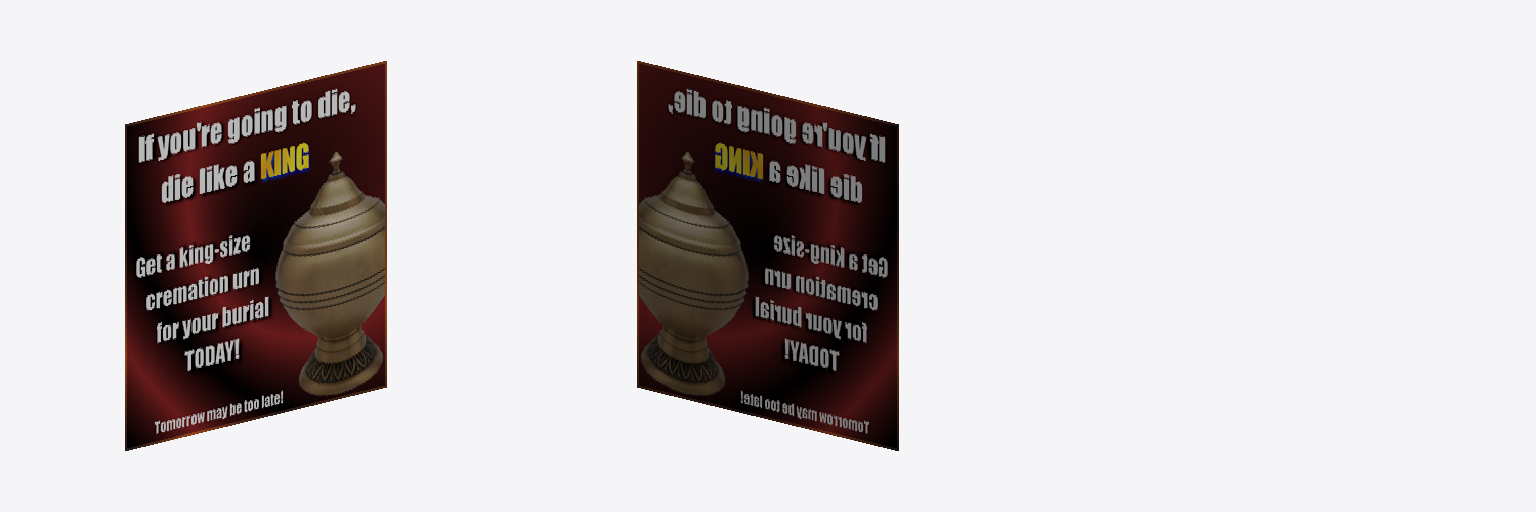
3 views of the same model, side by side, from view 1: azimuth 30°, elevation 25°; view 2: azimuth 150°, elevation 25°; view 3: azimuth 270°, elevation 25° (orthographic).
Parts seen in each view (by area): view 1: Box02; view 2: Box02; view 3: none.
Boxes of the visible parts, box(x1,y1,x2,y2) form: Box02: box(125, 61, 386, 450); Box02: box(637, 61, 898, 450).
Size of the model in its own units: 6.24 by 7.44 by 0.
1 materials, 1 textured.